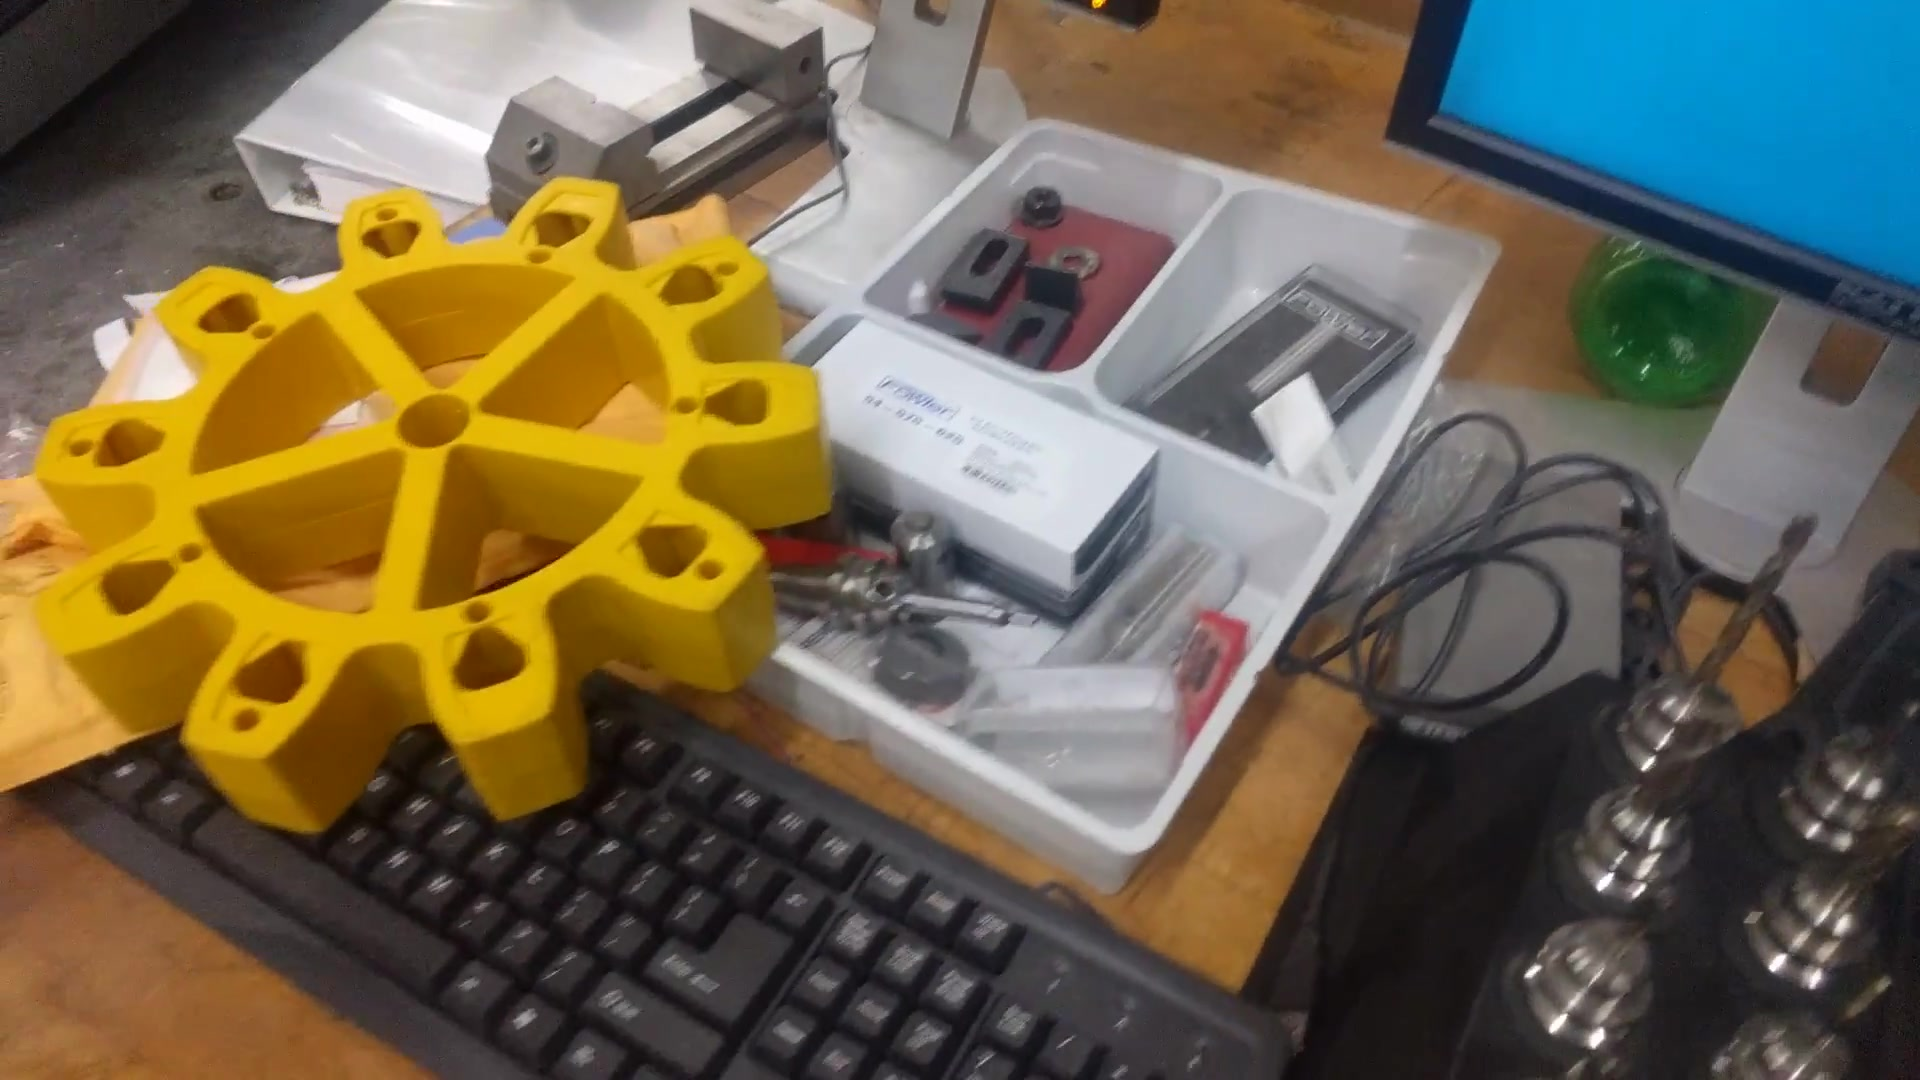gear: (24, 171, 872, 869)
